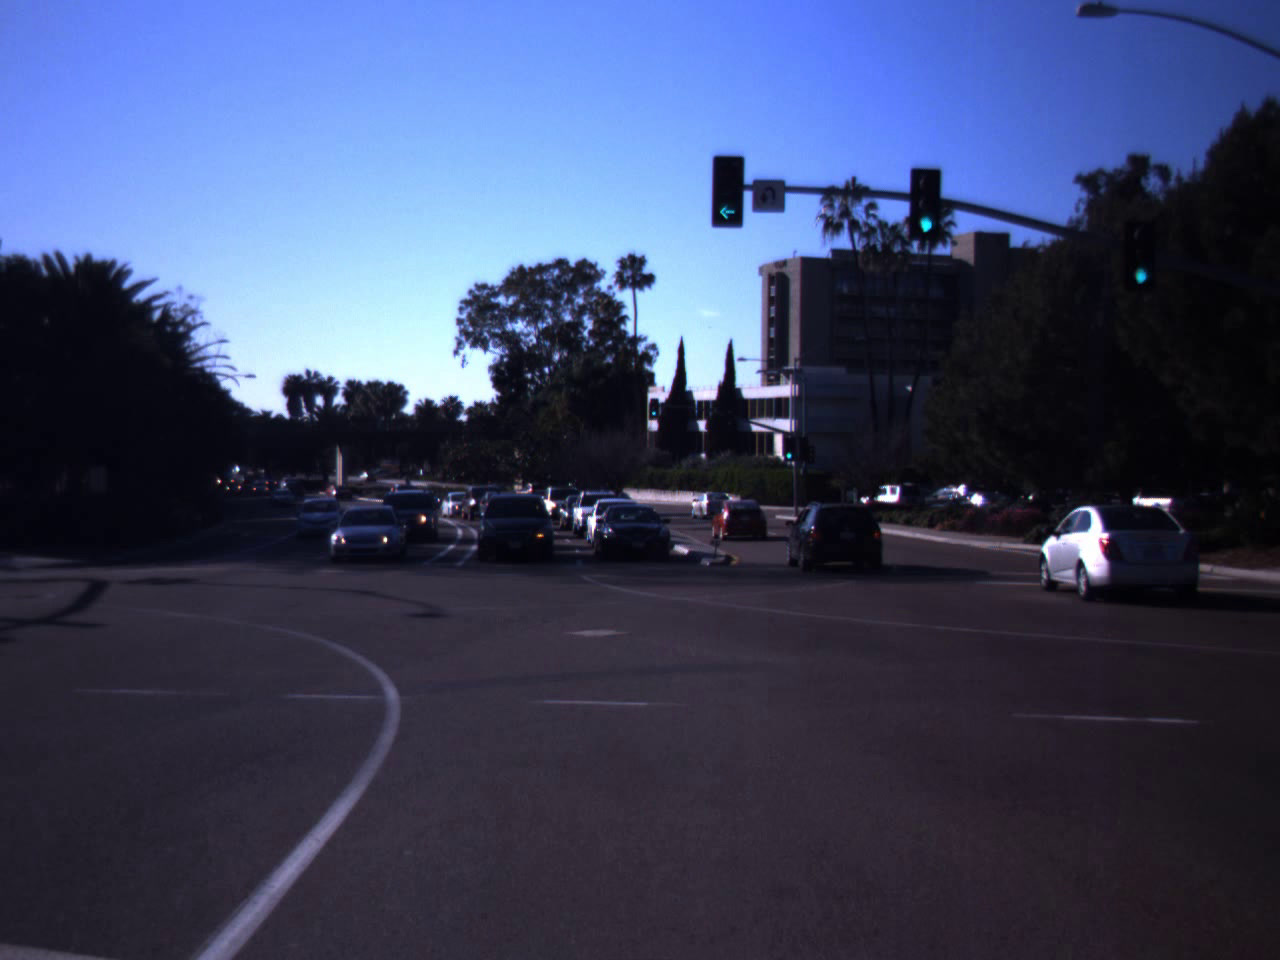go: (700, 151, 751, 226), (914, 186, 938, 236), (1131, 237, 1152, 287)
